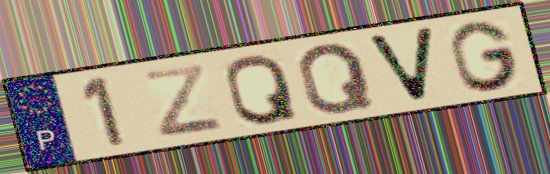1: (79, 74, 132, 150)
G: (446, 18, 524, 94)
Q: (295, 40, 378, 117), (222, 51, 302, 127)
V: (361, 24, 439, 106)
Z: (139, 61, 228, 140)
